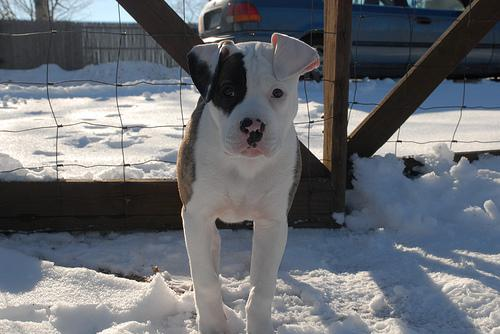dog-american_bulldog: (186, 31, 319, 155)
